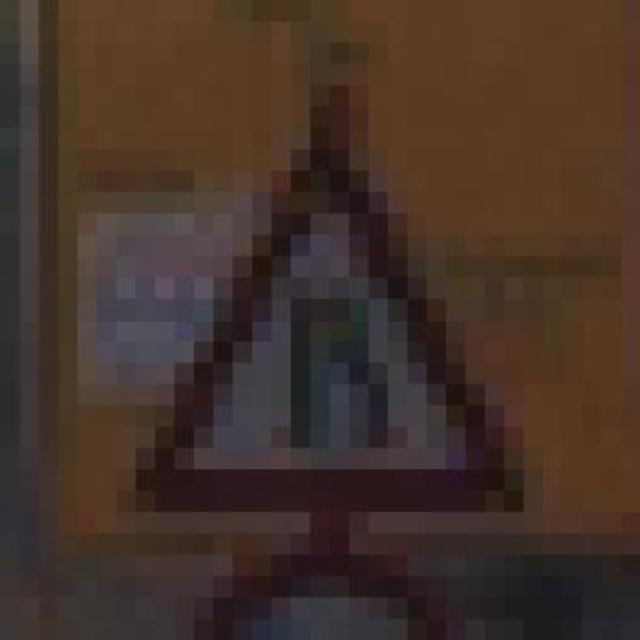-Road narrows on right: (97, 128, 563, 534)
